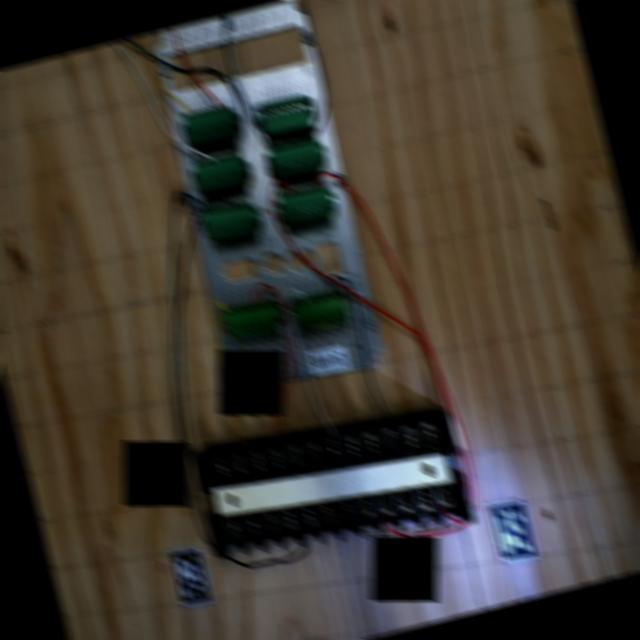Flathead_Block: (191, 410, 475, 564)
Terminal_1: (289, 285, 351, 334), (220, 297, 280, 341)
Terminal_2: (266, 135, 324, 178), (276, 182, 335, 224), (201, 199, 258, 241), (191, 150, 247, 192), (181, 103, 237, 145)
